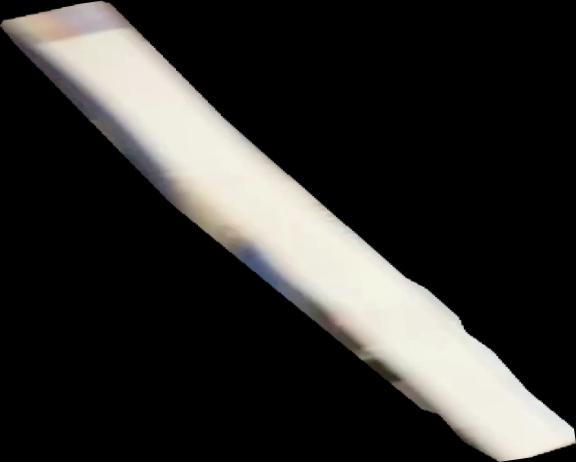backward: (1, 1, 576, 462)
